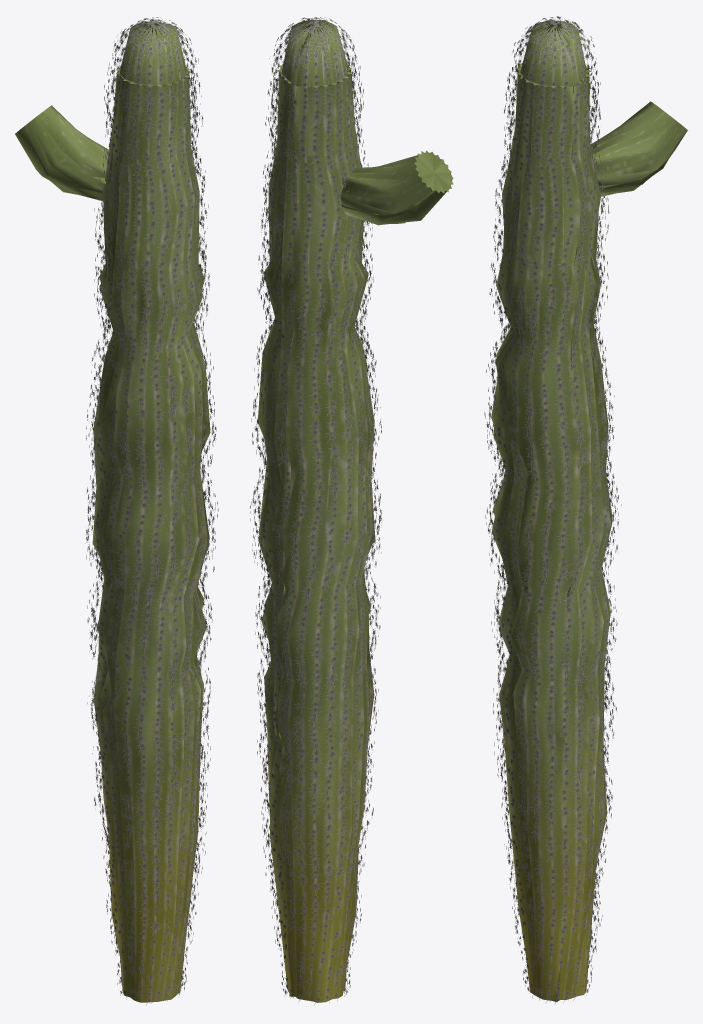
File: Planet_Saguaro03.fbx
3 views of the same model, side by side, from view 1: azimuth 30°, elevation 25°; view 2: azimuth 210°, elevation 25°; view 3: azimuth 270°, elevation 25° (orthographic).
Visible parts, largest first — view 1: Planet_Saguaro03; view 2: Planet_Saguaro03; view 3: Planet_Saguaro03.
Part boxes in pixels (<box>): Planet_Saguaro03: <box>15,17,218,1004</box>; Planet_Saguaro03: <box>250,17,453,1004</box>; Planet_Saguaro03: <box>484,16,687,1004</box>.
Bounding box in the file's own units: 0.1478 × 0.9949 × 0.1899.
